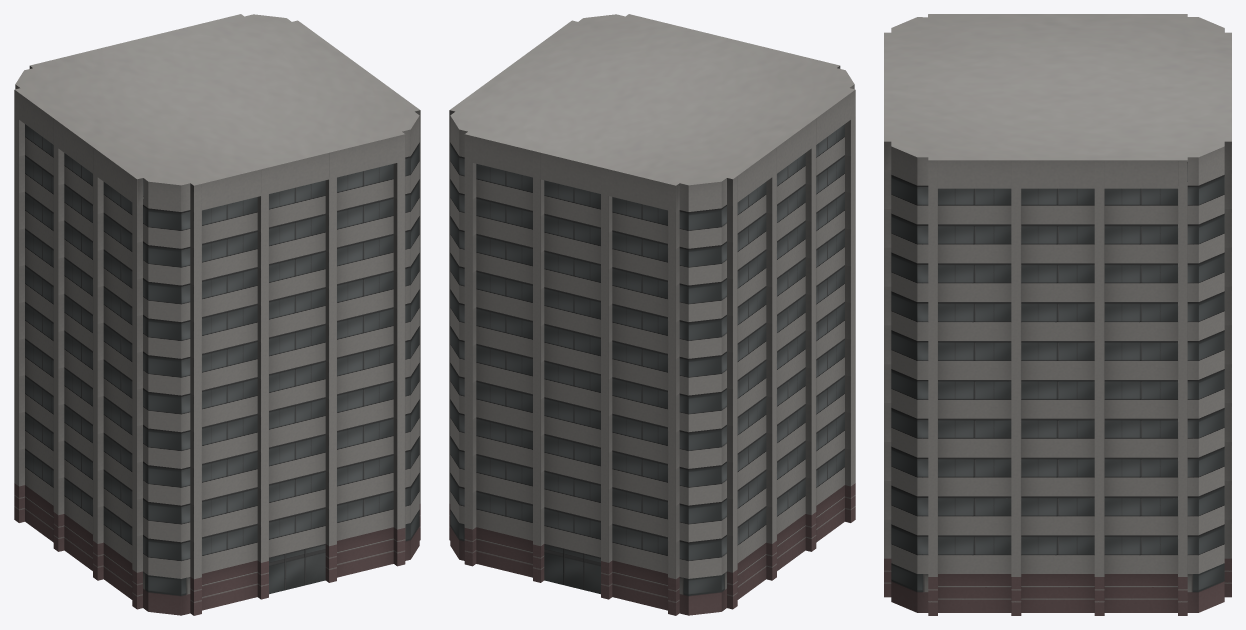
The model's file is BgMD_goto_Building_01_03.fbx.
3 views of the same model, side by side, from view 1: azimuth 30°, elevation 25°; view 2: azimuth 150°, elevation 25°; view 3: azimuth 270°, elevation 25° (orthographic). The views are drawn at different scales.
Parts seen in each view (by area): view 1: BgMD_goto_Building_01_03; view 2: BgMD_goto_Building_01_03; view 3: BgMD_goto_Building_01_03.
Boxes of the visible parts, box(x1,y1,x2,y2) form: BgMD_goto_Building_01_03: box(14, 14, 420, 615); BgMD_goto_Building_01_03: box(449, 14, 855, 615); BgMD_goto_Building_01_03: box(884, 14, 1231, 615).
Bounding box in the file's own units: 2830 × 4122 × 2840.
Materials: 1 (1 with a texture image).
